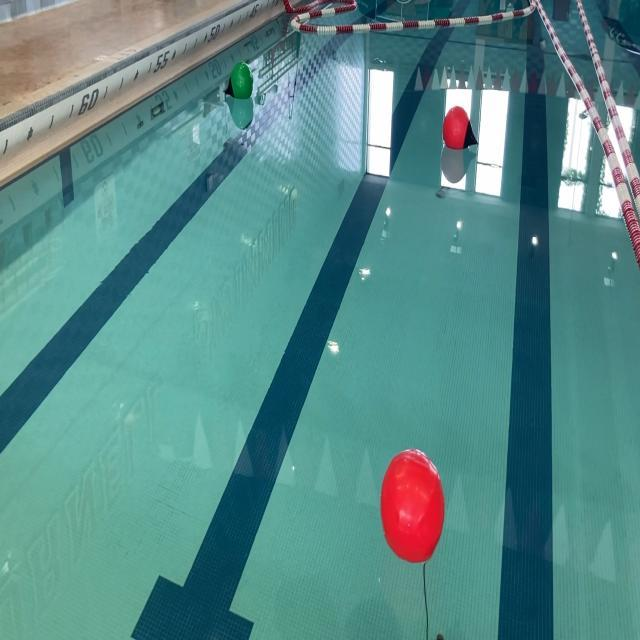buoy: (379, 448, 447, 564), (444, 105, 476, 154), (224, 64, 254, 102)
